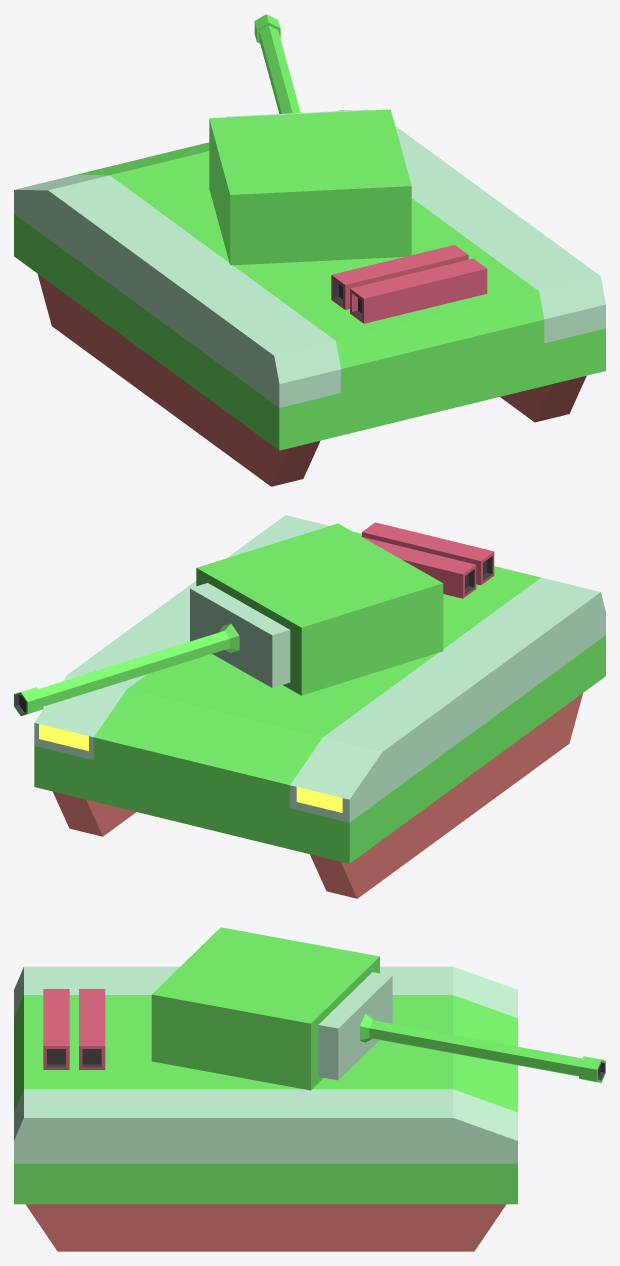
The model's file is tank_low_poly.glb.
The picture shows the model from 3 angles, top to bottom: view 1: azimuth 30°, elevation 25°; view 2: azimuth 150°, elevation 25°; view 3: azimuth 270°, elevation 25°; orthographic projection. The views are drawn at different scales.
Parts seen in each view (by area): view 1: Cube, Cube.001, Cube.002; view 2: Cube, Cube.001, Cube.002; view 3: Cube, Cube.001, Cube.002.
Part boxes in pixels (x1=…): Cube: x1=14, y1=110, x2=605, y2=486; Cube.001: x1=209, y1=14, x2=411, y2=265; Cube.002: x1=331, y1=245, x2=487, y2=323; Cube: x1=34, y1=515, x2=605, y2=898; Cube.001: x1=14, y1=523, x2=443, y2=715; Cube.002: x1=362, y1=522, x2=494, y2=598; Cube: x1=14, y1=966, x2=517, y2=1251; Cube.001: x1=151, y1=927, x2=605, y2=1090; Cube.002: x1=43, y1=989, x2=105, y2=1069.
Bounding box in the file's own units: 213 × 136 × 352.
